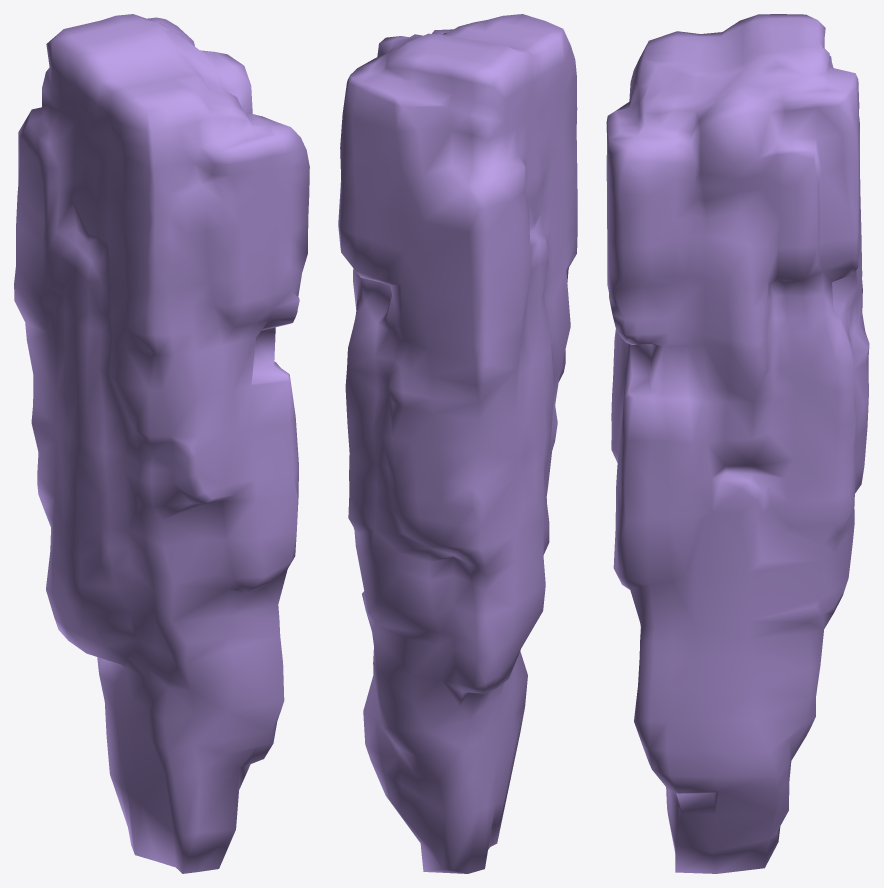
File: RockBigSize_1.FBX
3 renders of one model, left to right at view 1: azimuth 30°, elevation 25°; view 2: azimuth 150°, elevation 25°; view 3: azimuth 270°, elevation 25°, orthographic. The views are drawn at different scales.
Parts seen in each view (by area): view 1: big_rock_01_low; view 2: big_rock_01_low; view 3: big_rock_01_low.
Boxes of the visible parts, box(x1,y1,x2,y2) form: big_rock_01_low: box(14, 14, 309, 873); big_rock_01_low: box(338, 14, 577, 873); big_rock_01_low: box(606, 14, 869, 873).
Bounding box in the file's own units: 312 × 1319 × 387.
